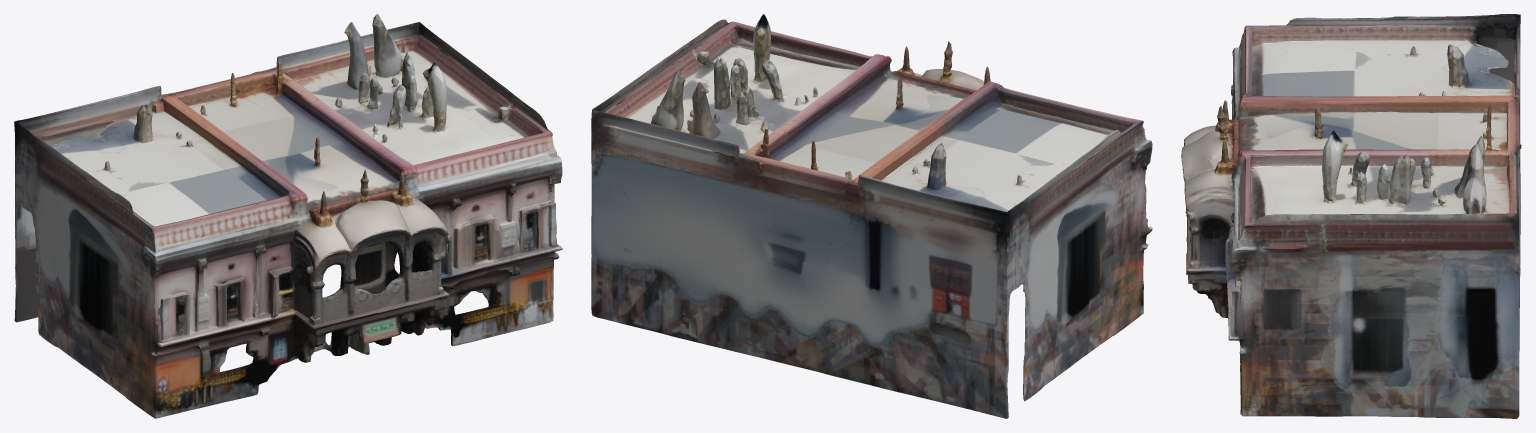
File: vishrambaugwada.glb
3 renders of one model, left to right at view 1: azimuth 30°, elevation 25°; view 2: azimuth 150°, elevation 25°; view 3: azimuth 270°, elevation 25°, orthographic. The views are drawn at different scales.
Parts seen in each view (by area): view 1: mesh; view 2: mesh; view 3: mesh.
Part boxes in pixels (x1,y1,x2,y2): mesh: (14,14,562,418); mesh: (591,14,1152,418); mesh: (1181,14,1521,418).
Size of the model in its own units: 1 by 0.578 by 0.71.
Materials: 1 (1 with a texture image).
